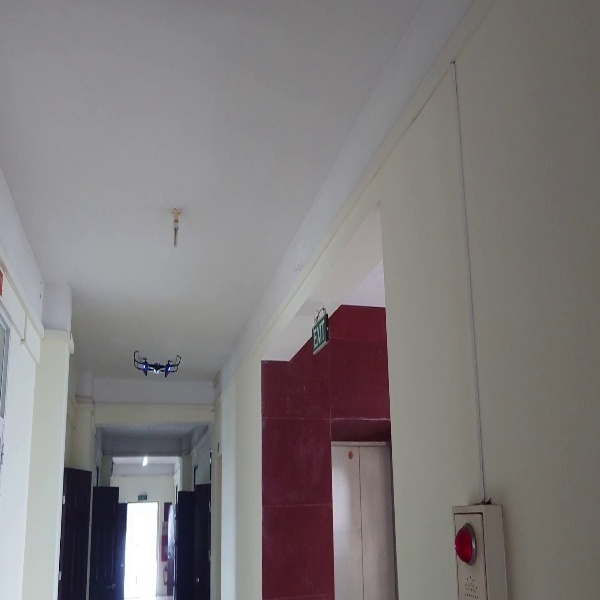drone: (127, 349, 184, 378)
